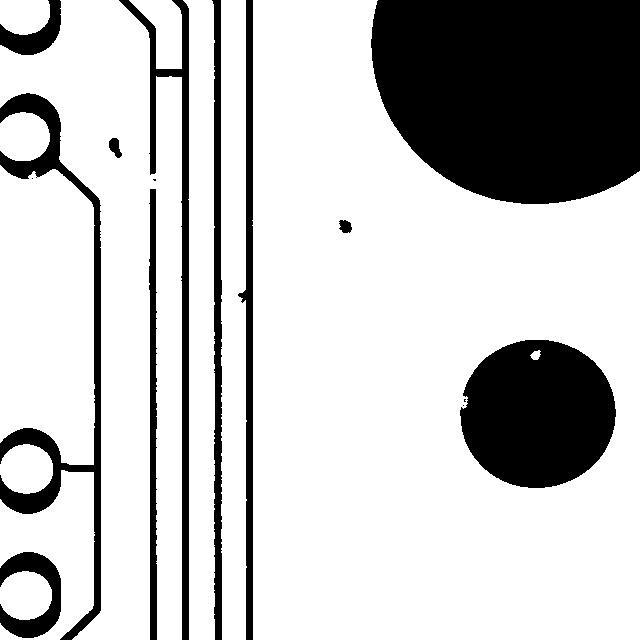copper: (99, 128, 131, 167), (329, 210, 361, 242)
mousebite: (449, 386, 477, 418), (18, 161, 46, 190)
open: (132, 163, 171, 198)
pin-hole: (520, 340, 550, 369)
short: (48, 453, 105, 481), (142, 59, 195, 86)
spur: (228, 280, 257, 312)
